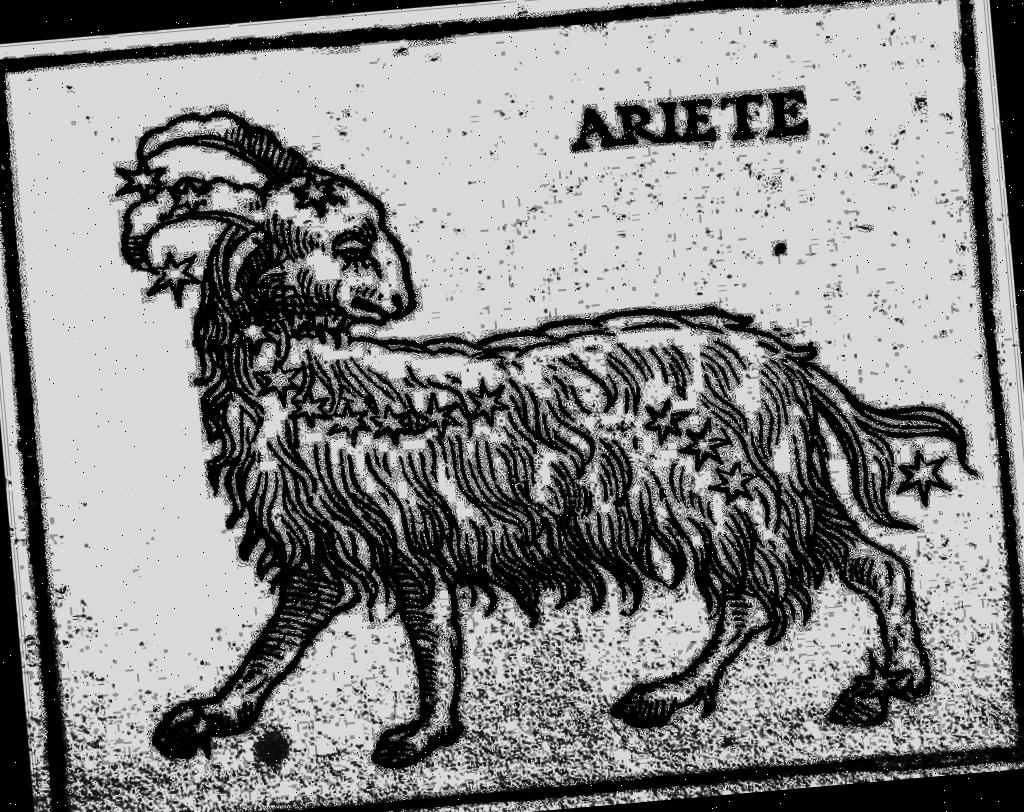Sheep: (80, 133, 993, 794)
